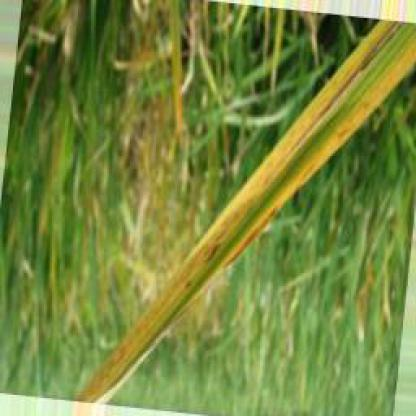Tungro: (73, 25, 413, 414)
